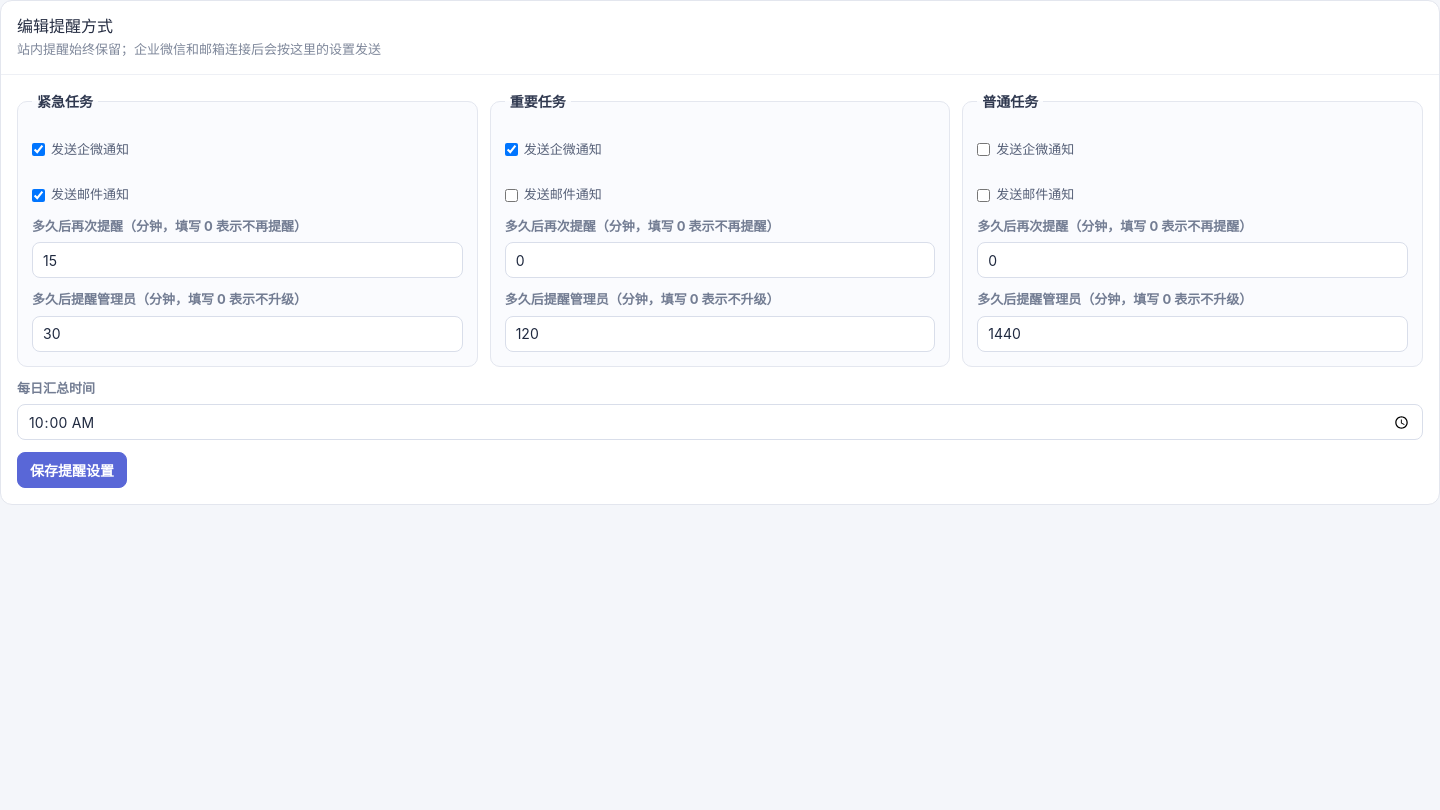
NotificationPolicyEditor › publishes channel, repeat, escalation and digest settings
The image size is (1440, 810).
Replace the text in the time field labelled "每日汇总时间" with "09:30". click: (720, 422)
box: [17,404,1423,440]
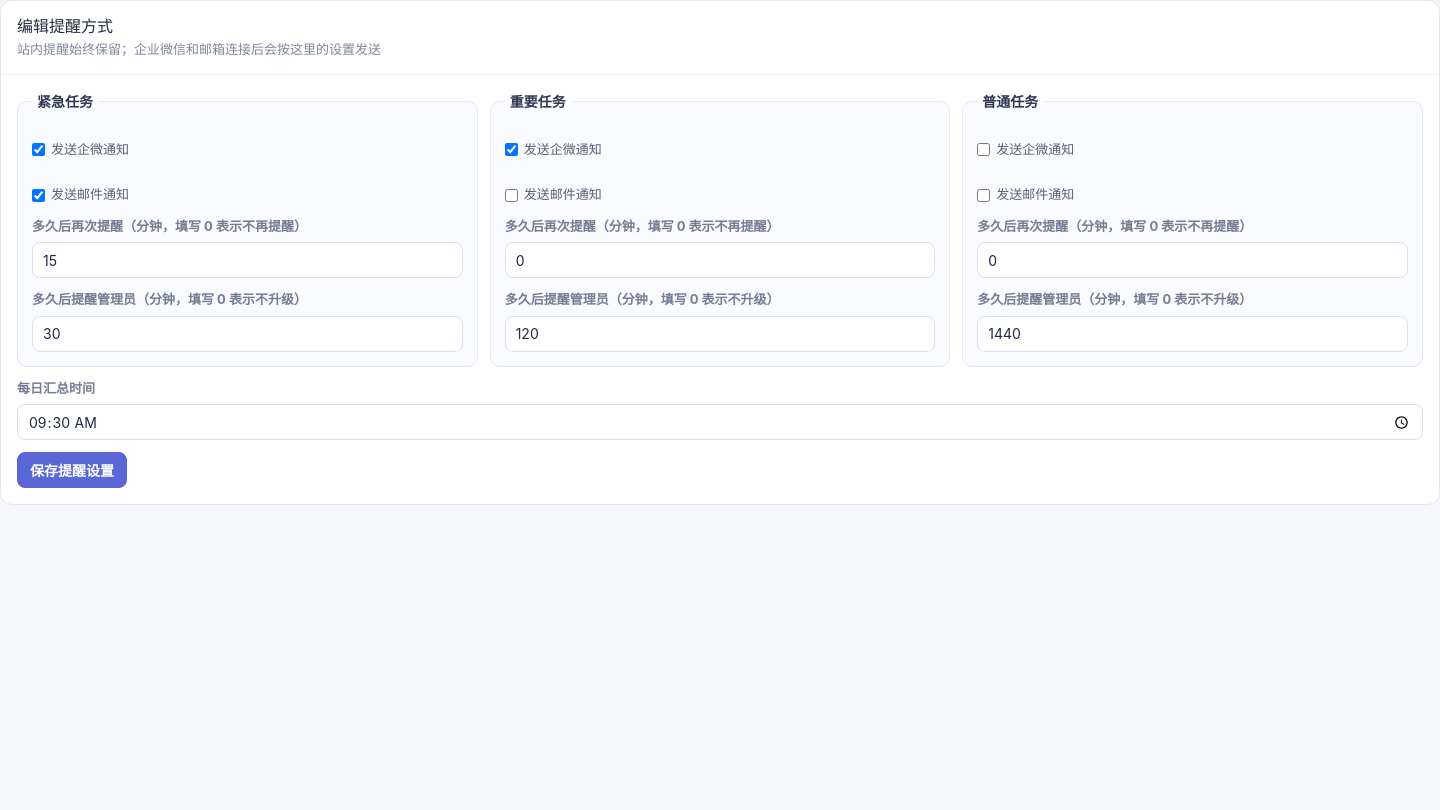
Click the button "保存提醒设置". click: (72, 470)
box: [17,452,127,488]
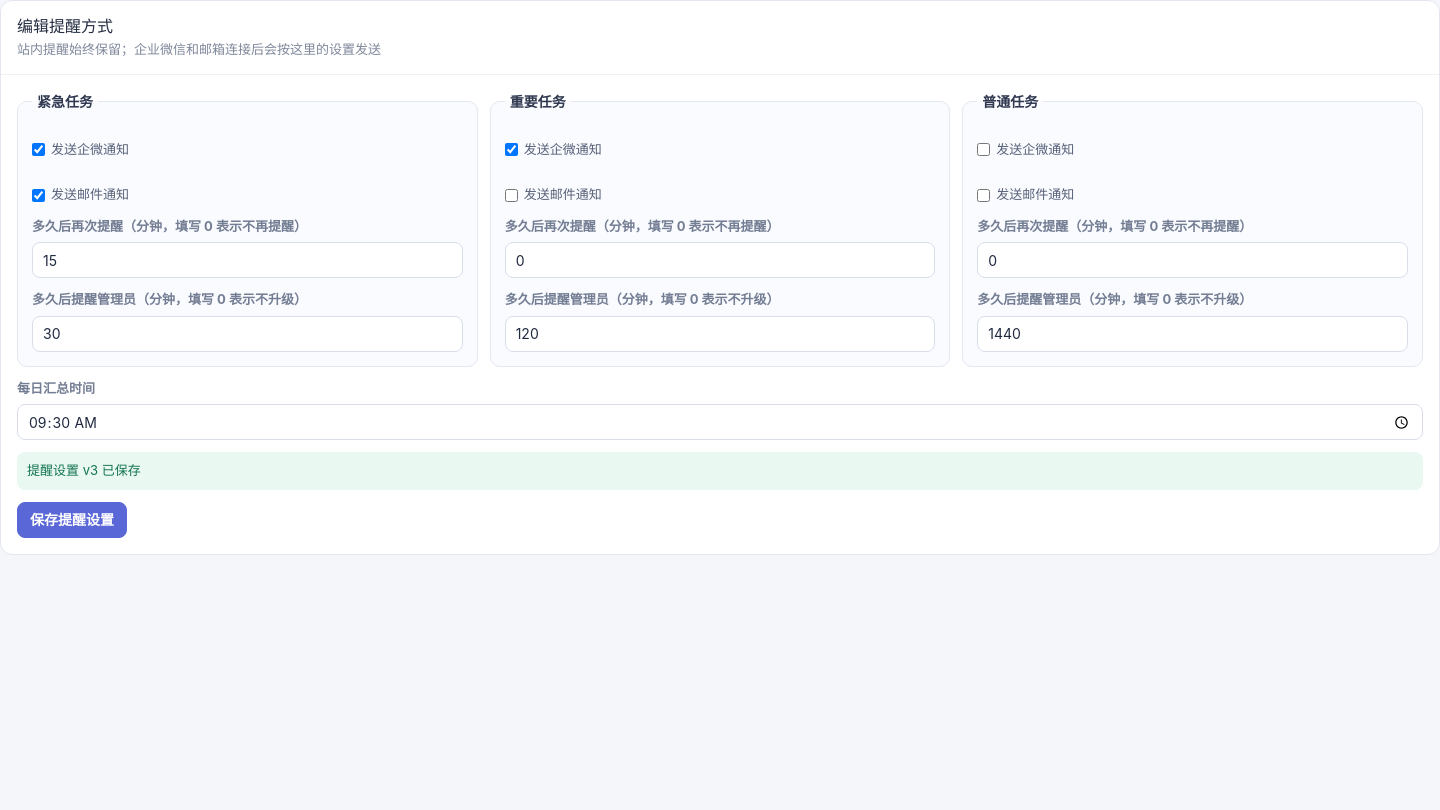
Result: the text "提醒设置 v3 已保存" is shown at [17,452,1423,490]
